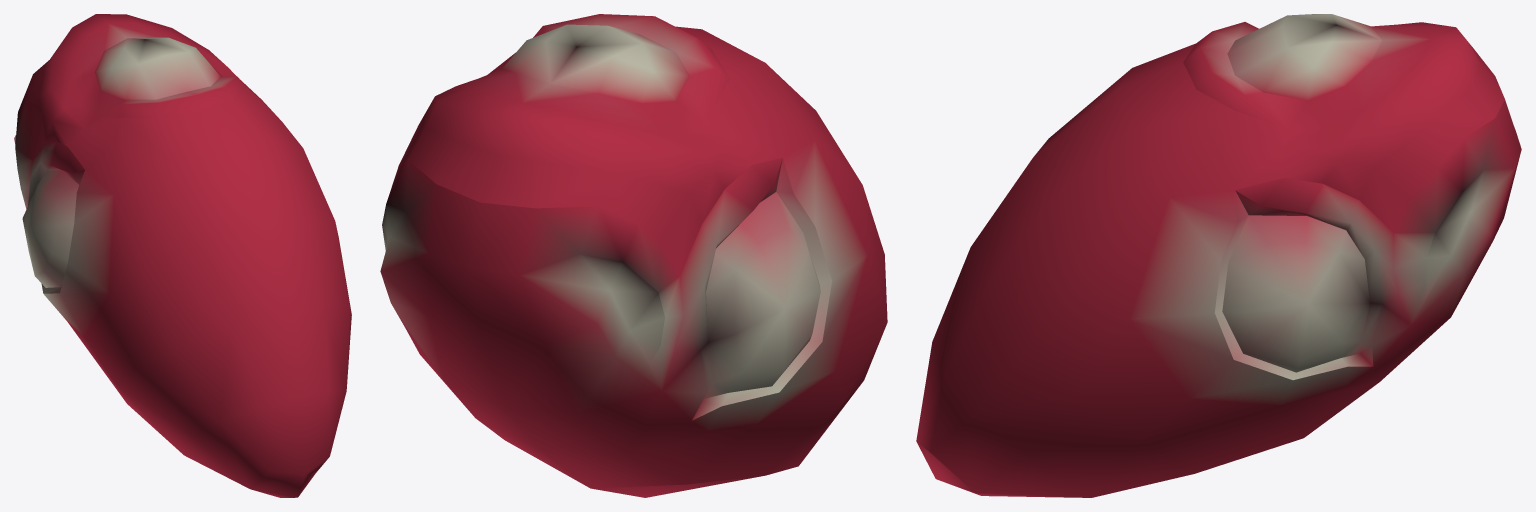
Rendered from S12_Beast04_L2_Tail.glb.
3 views of the same model, side by side, from view 1: azimuth 30°, elevation 25°; view 2: azimuth 150°, elevation 25°; view 3: azimuth 270°, elevation 25° (orthographic). The views are drawn at different scales.
Parts seen in each view (by area): view 1: S12_Beast04_L2_Tail__Tail_M__surface0__lod0; view 2: S12_Beast04_L2_Tail__Tail_M__surface0__lod0; view 3: S12_Beast04_L2_Tail__Tail_M__surface0__lod0.
Boxes of the visible parts, x1,y1,x2,y2 form: S12_Beast04_L2_Tail__Tail_M__surface0__lod0: (14,14,351,497); S12_Beast04_L2_Tail__Tail_M__surface0__lod0: (380,14,887,497); S12_Beast04_L2_Tail__Tail_M__surface0__lod0: (916,14,1521,497).
Bounding box in the file's own units: 27.27 × 36.34 × 42.34.
